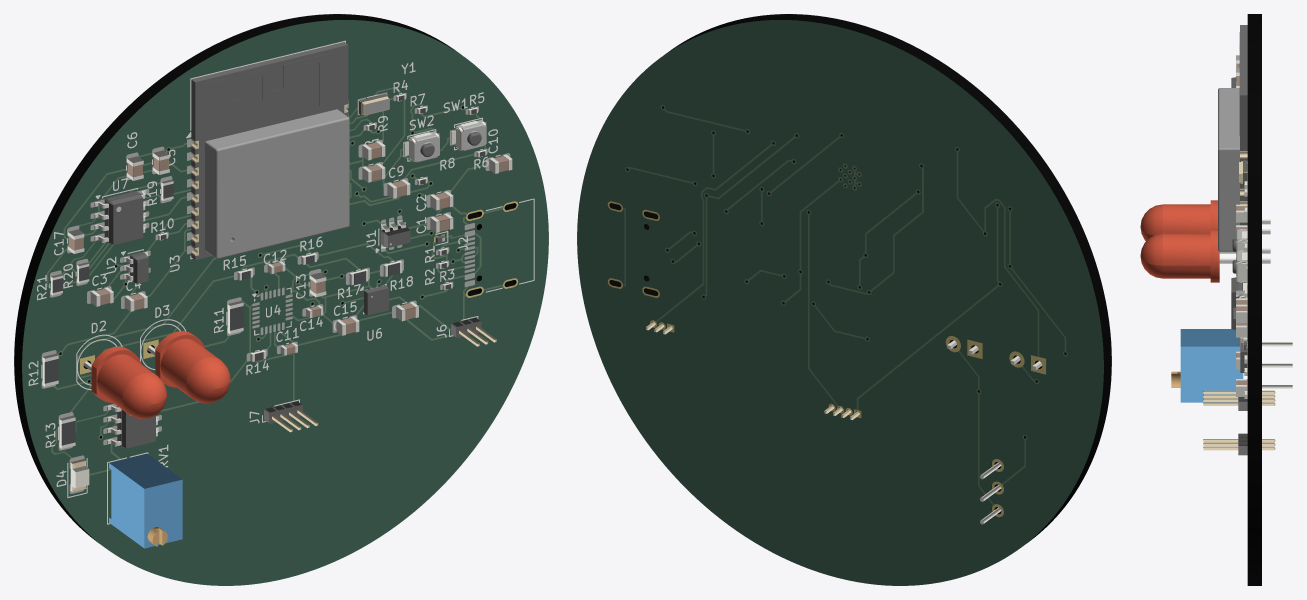
File: Lakshya.glb
The picture shows the model from 3 angles, left to right: view 1: azimuth 30°, elevation 25°; view 2: azimuth 150°, elevation 25°; view 3: azimuth 270°, elevation 25°; orthographic projection. The views are drawn at different scales.
Visible parts, largest first — view 1: Shape (×21); view 2: Shape (×4); view 3: Shape (×13).
Boxes of the visible parts, box(x1,y1,x2,y2) form: Shape (×21): box(14, 14, 548, 585); Shape (×4): box(577, 14, 1111, 585); Shape (×13): box(1140, 14, 1261, 585).
Bounding box in the file's own units: 0.062 × 0.062 × 0.0165.
